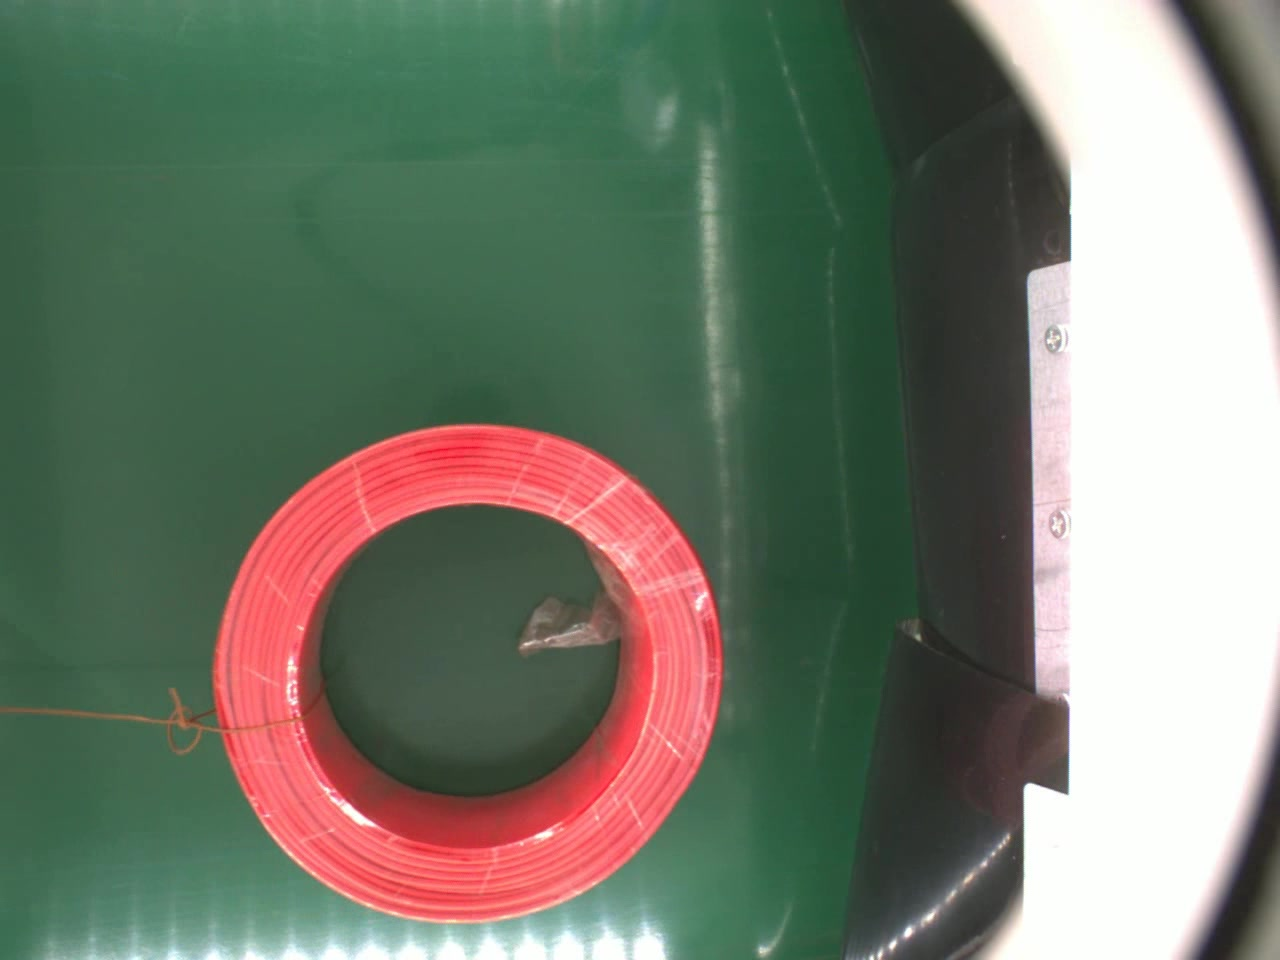red: (211, 418, 723, 924)
